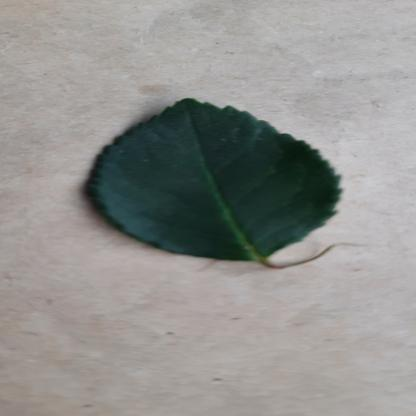normal: (84, 98, 350, 262)
